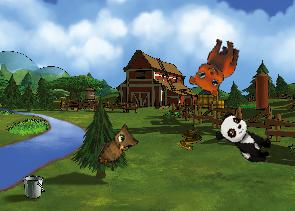bear: (186, 32, 242, 99)
owl: (95, 121, 143, 175)
panda: (211, 109, 278, 168)
